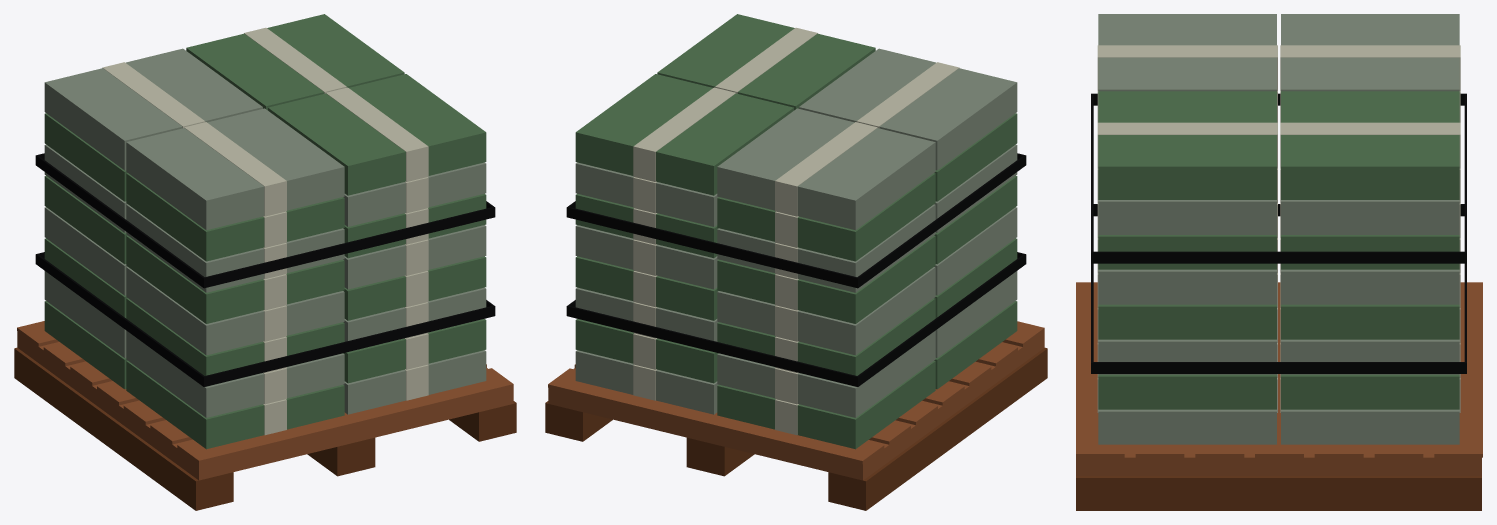
Rendered from cash_pallet.glb.
3 views of the same model, side by side, from view 1: azimuth 30°, elevation 25°; view 2: azimuth 150°, elevation 25°; view 3: azimuth 270°, elevation 25° (orthographic). The views are drawn at different scales.
Visible parts, largest first — view 1: cash_pallet; view 2: cash_pallet; view 3: cash_pallet.
Boxes of the visible parts, box(x1,y1,x2,y2) form: cash_pallet: box(14, 14, 516, 510); cash_pallet: box(545, 14, 1047, 510); cash_pallet: box(1076, 14, 1482, 510).
Size of the model in its own units: 1.02 by 0.906 by 1.
